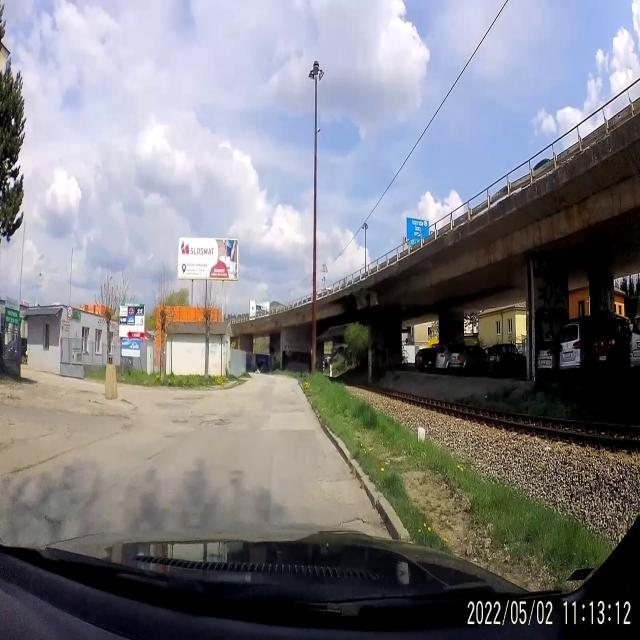Pothole: (337, 506, 377, 534), (198, 417, 230, 430), (170, 416, 190, 428), (162, 434, 177, 441)
